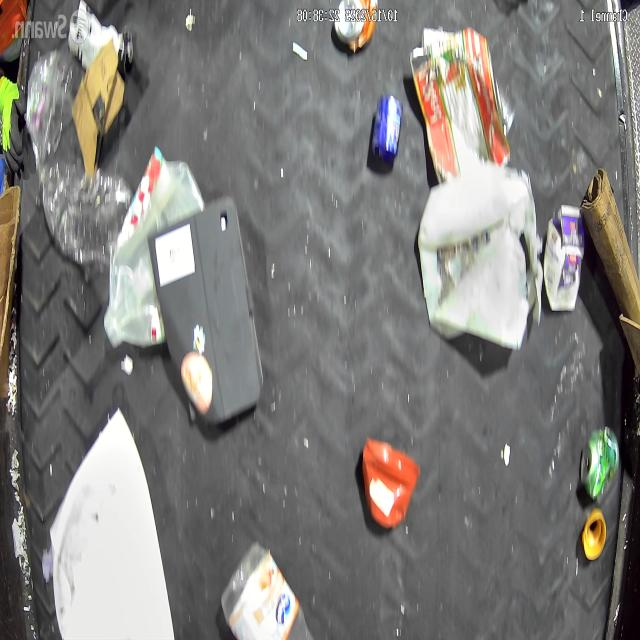can: (578, 426, 619, 502), (332, 0, 380, 54), (371, 93, 403, 162)
milk_jug: (417, 162, 531, 350), (103, 150, 206, 348)
plastic_bottle: (39, 162, 133, 270), (23, 50, 73, 165)
